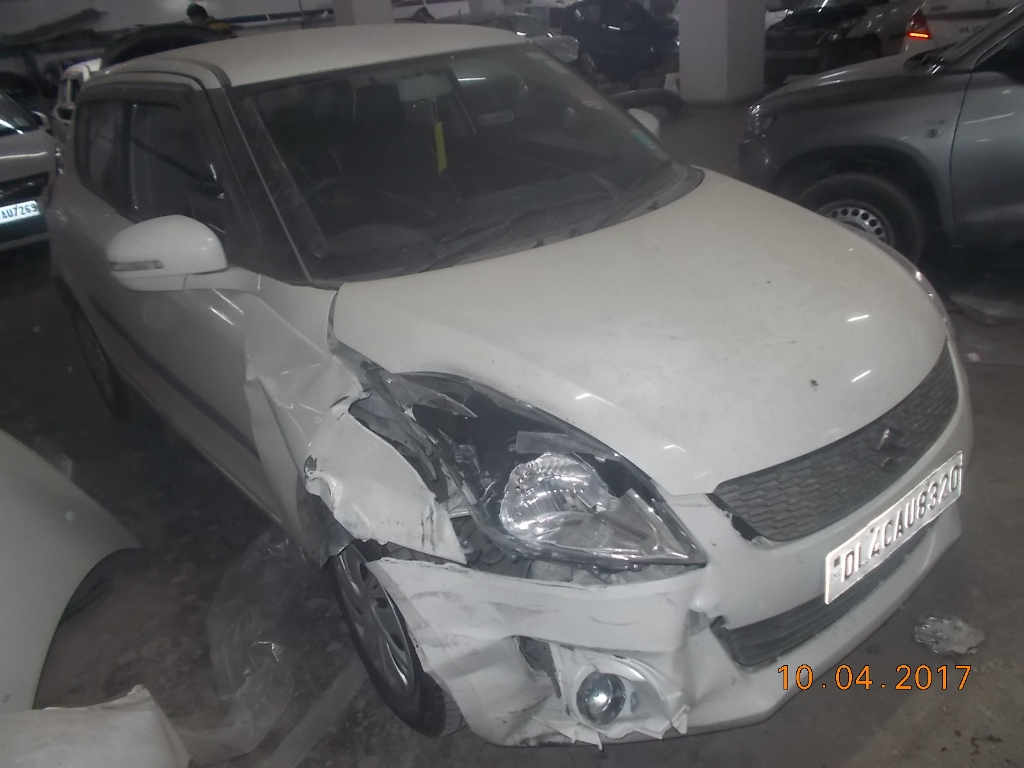Large_tear_or_damage: (277, 334, 636, 707)
